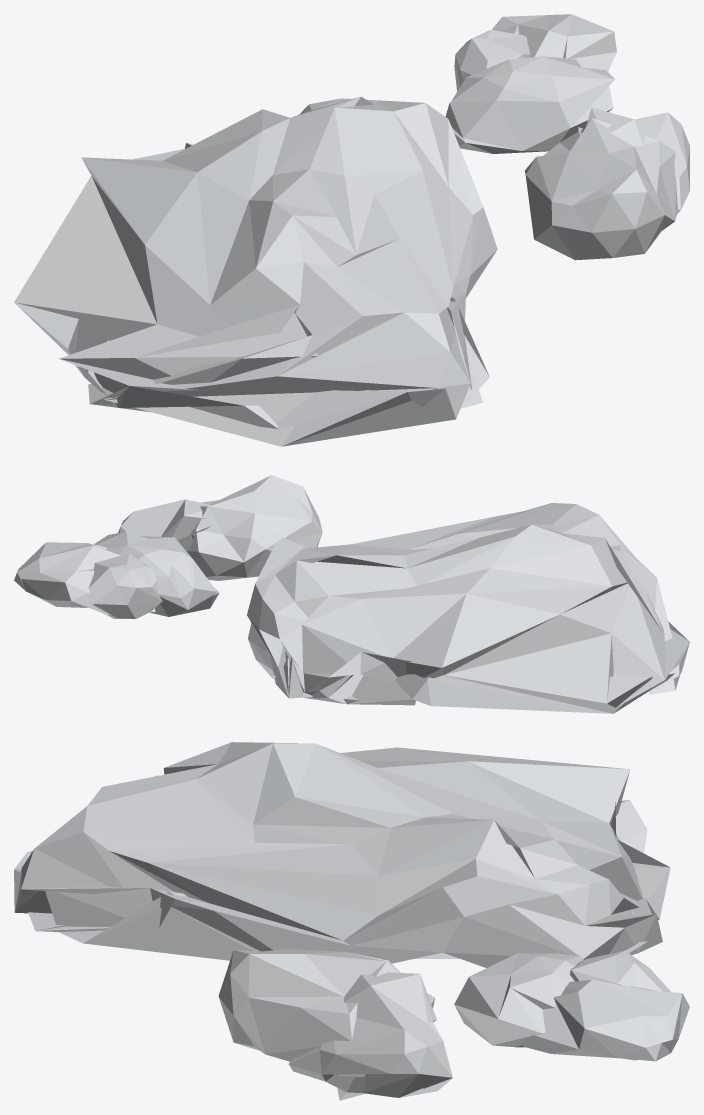
The model's file is nuage7.glb.
The picture shows the model from 3 angles, top to bottom: view 1: azimuth 30°, elevation 25°; view 2: azimuth 150°, elevation 25°; view 3: azimuth 270°, elevation 25°; orthographic projection. The views are drawn at different scales.
Visible parts, largest first — view 1: Icosphère.008; view 2: Icosphère.008; view 3: Icosphère.008.
Part boxes in pixels (x1,y1,x2,y2): Icosphère.008: [14, 14, 689, 446]; Icosphère.008: [14, 475, 689, 713]; Icosphère.008: [14, 742, 689, 1100].
Size of the model in its own units: 27.26 by 6.01 by 21.5.
1 material, 1 textured.
